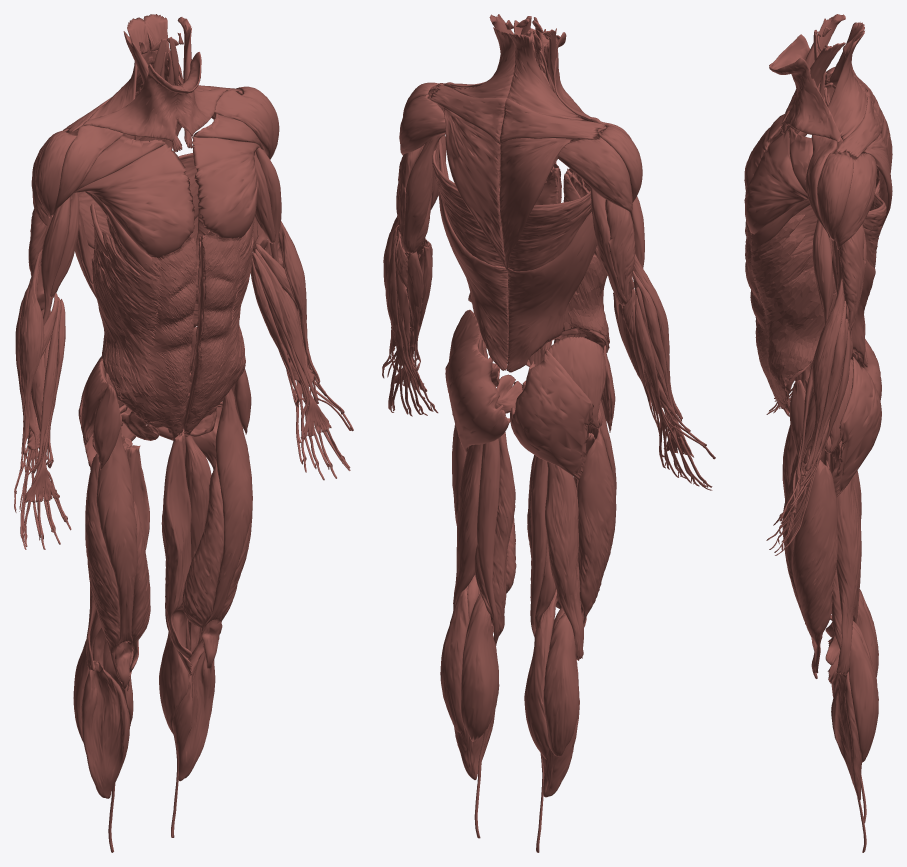
File: muscles.glb
The picture shows the model from 3 angles, left to right: view 1: azimuth 30°, elevation 25°; view 2: azimuth 150°, elevation 25°; view 3: azimuth 270°, elevation 25°; orthographic projection. The views are drawn at different scales.
Visible parts, largest first — view 1: Obliques_L, Quadriceps_L, Pectorals_L, Quadriceps_R, Forearm_L, Obliques_R, Forearm_R, Pectorals_R, Calves_L, Hamstrings_R, Calves_R, Deltoids_L (+13 smaller); view 2: Latissimus_L, Glutes_L, Trapezius_L, Trapezius_R, Hamstrings_R, Calves_R, Hamstrings_L, Calves_L, Forearm_L, Latissimus_R, Forearm_R, Glutes_R (+11 smaller); view 3: Obliques_R, Quadriceps_R, Forearm_R, Deltoids_R, Pectorals_R, Glutes_R, Calves_R, Hamstrings_R, Trapezius_R, Neck_R, Latissimus_R, Triceps_R (+10 smaller).
Part boxes in pixels (bbox=[...]): Obliques_L: bbox=[90, 203, 196, 439]; Quadriceps_L: bbox=[85, 412, 150, 689]; Pectorals_L: bbox=[74, 136, 194, 273]; Quadriceps_R: bbox=[182, 388, 252, 668]; Forearm_L: bbox=[14, 249, 71, 549]; Obliques_R: bbox=[183, 210, 253, 435]; Forearm_R: bbox=[250, 221, 353, 480]; Pectorals_R: bbox=[192, 113, 263, 250]; Calves_L: bbox=[73, 628, 133, 852]; Hamstrings_R: bbox=[161, 431, 219, 675]; Calves_R: bbox=[159, 603, 215, 837]; Deltoids_L: bbox=[31, 125, 123, 225]; Latissimus_L: bbox=[506, 191, 596, 372]; Glutes_L: bbox=[510, 337, 615, 480]; Trapezius_L: bbox=[499, 33, 605, 270]; Trapezius_R: bbox=[429, 27, 515, 270]; Hamstrings_R: bbox=[453, 431, 515, 645]; Calves_R: bbox=[440, 575, 499, 838]; Hamstrings_L: bbox=[527, 455, 583, 660]; Calves_L: bbox=[524, 589, 579, 852]; Forearm_L: bbox=[613, 254, 715, 490]; Latissimus_R: bbox=[432, 138, 508, 370]; Forearm_R: bbox=[382, 216, 438, 416]; Glutes_R: bbox=[445, 309, 522, 452]; Obliques_R: bbox=[745, 214, 836, 416]; Quadriceps_R: bbox=[782, 453, 837, 678]; Forearm_R: bbox=[766, 274, 852, 555]; Deltoids_R: bbox=[805, 135, 876, 249]; Pectorals_R: bbox=[744, 127, 812, 250]; Glutes_R: bbox=[789, 356, 881, 496]; Calves_R: bbox=[830, 615, 878, 852]; Hamstrings_R: bbox=[825, 443, 861, 683]; Trapezius_R: bbox=[828, 30, 892, 233]; Neck_R: bbox=[769, 32, 845, 142]; Latissimus_R: bbox=[831, 193, 886, 367]; Triceps_R: bbox=[837, 224, 866, 330].
Bounding box in the file's own units: 0.6599 × 1.55 × 0.2564.
